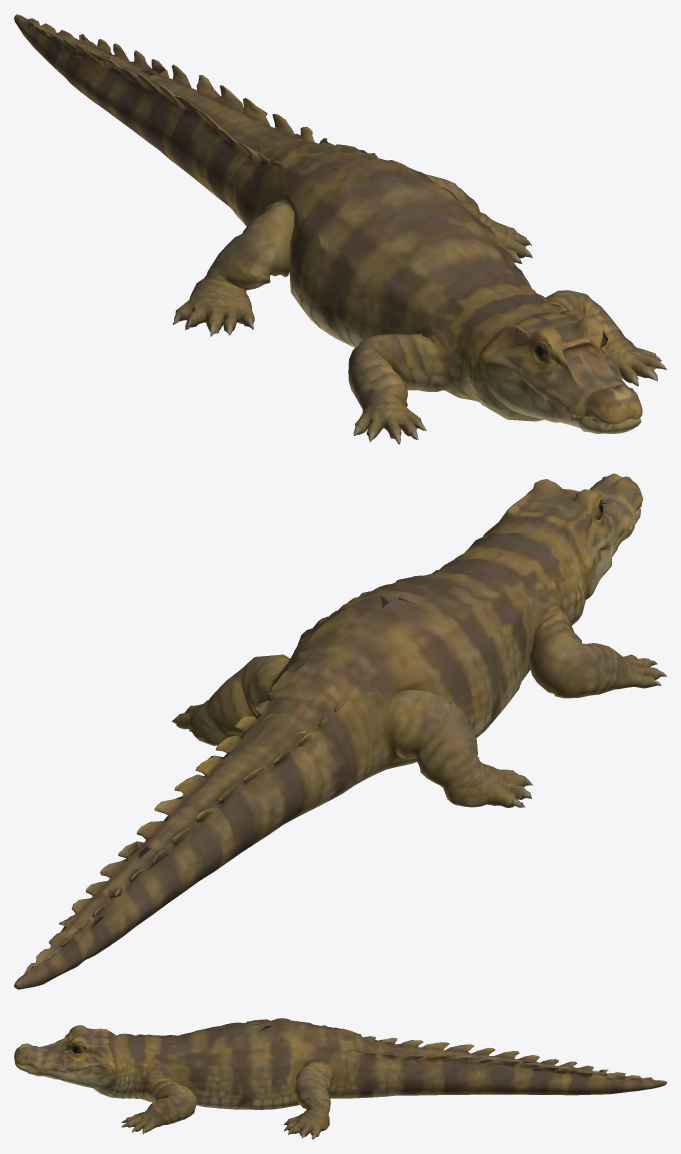
Rendered from caiman-kichi.glb.
3 renders of one model, top to bottom at view 1: azimuth 30°, elevation 25°; view 2: azimuth 150°, elevation 25°; view 3: azimuth 270°, elevation 25°, orthographic. The views are drawn at different scales.
Visible parts, largest first — view 1: geometry_0; view 2: geometry_0; view 3: geometry_0.
Part boxes in pixels (x1,y1,x2,y2): geometry_0: (14, 14, 666, 444); geometry_0: (14, 473, 666, 989); geometry_0: (14, 1018, 666, 1139).
Bounding box in the file's own units: 0.3159 × 0.1147 × 0.9521.
1 material, 1 textured.
